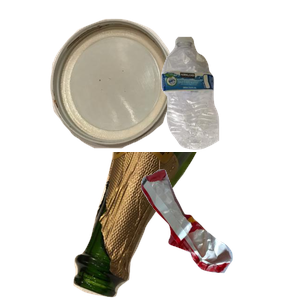glass: (71, 152, 260, 300)
metal: (47, 16, 214, 157)
plastic: (159, 34, 300, 176)
trash: (139, 167, 300, 300)
